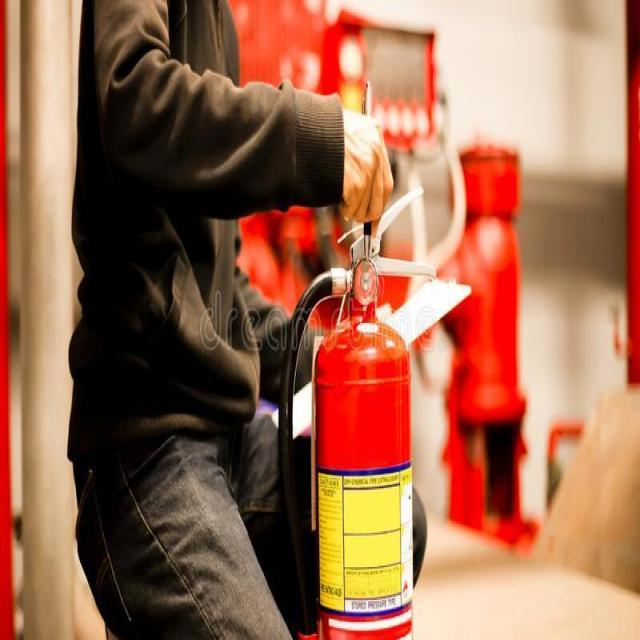fire_extinguisher: (275, 180, 439, 639)
